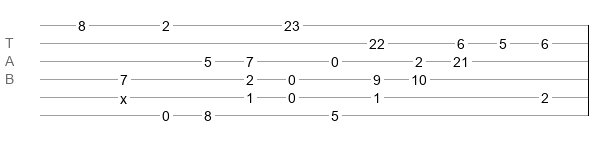0: (162, 108, 170, 118), (288, 90, 296, 100), (288, 72, 296, 82), (331, 54, 339, 64)
1: (246, 90, 254, 100), (373, 90, 381, 100)
10: (411, 72, 427, 82)
2: (162, 18, 170, 28), (246, 72, 254, 82), (415, 54, 423, 64), (541, 90, 549, 100)
21: (453, 54, 469, 64)
22: (369, 36, 385, 46)
23: (284, 18, 300, 28)
5: (204, 54, 212, 64), (331, 108, 339, 118), (499, 36, 507, 46)
6: (457, 36, 465, 46), (541, 36, 549, 46)
7: (120, 72, 128, 82), (246, 54, 254, 64)
8: (78, 18, 86, 28), (204, 108, 212, 118)
9: (373, 72, 381, 82)
x: (120, 91, 127, 99)
